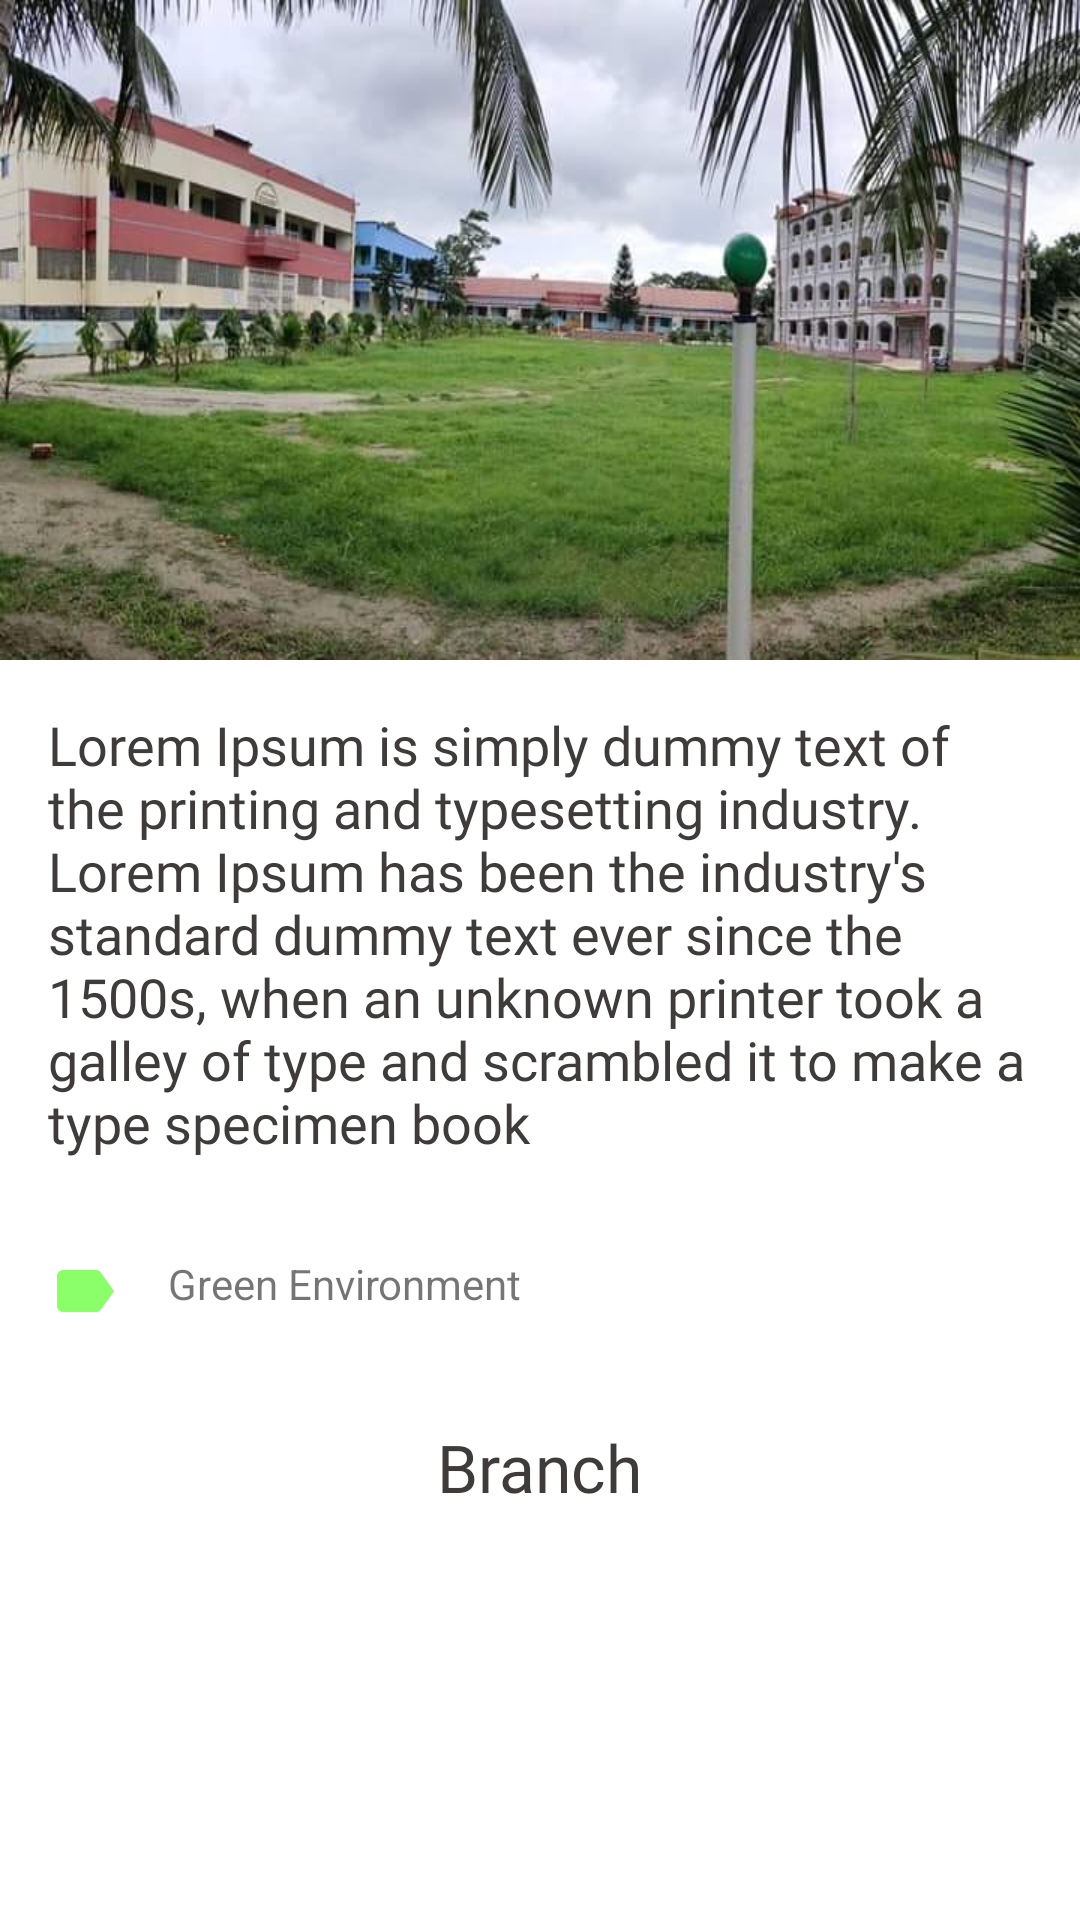

Named icons in this screenshot (1080 × 1920) and their bounding boxes, BBox(x1, y1, x2, y2):
label: BBox(57, 1270, 114, 1312)
